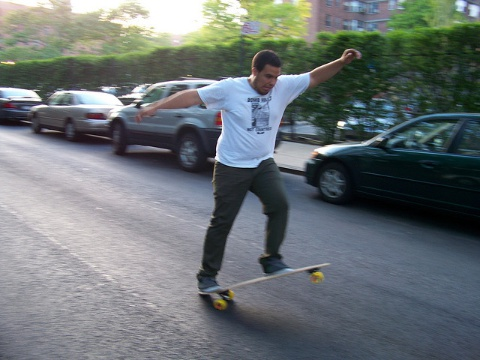hand: (134, 103, 161, 122), (342, 47, 363, 67)
